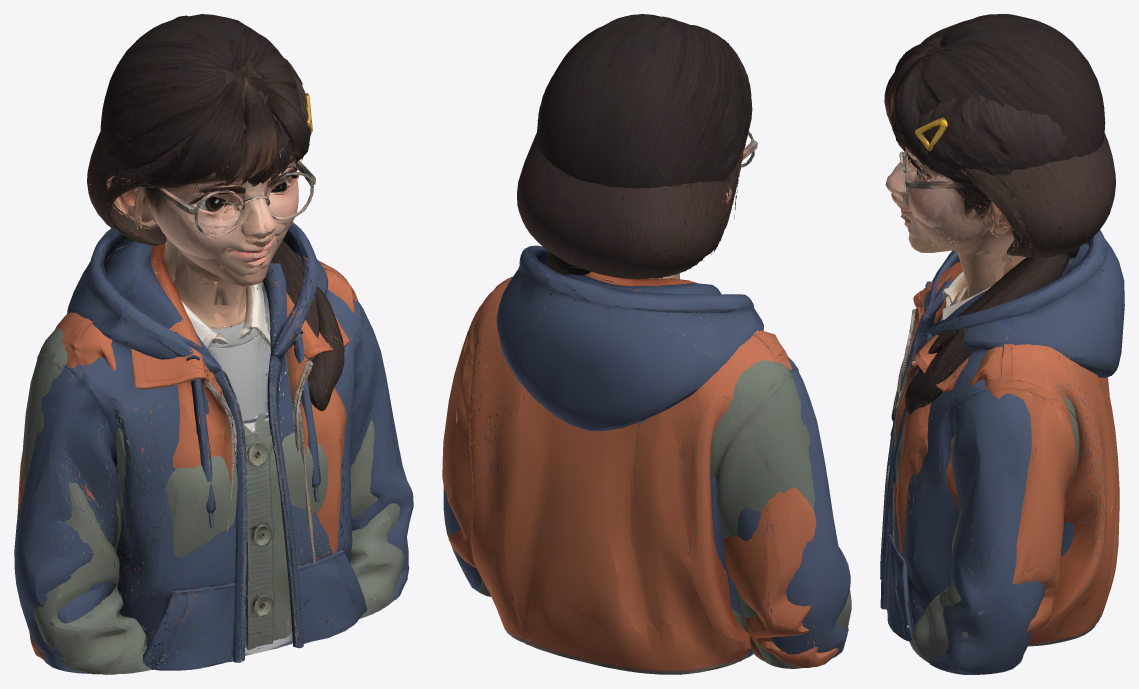
The model's file is characters.glb.
3 views of the same model, side by side, from view 1: azimuth 30°, elevation 25°; view 2: azimuth 150°, elevation 25°; view 3: azimuth 270°, elevation 25° (orthographic). The views are drawn at different scales.
Visible parts, largest first — view 1: seat1, seat2, seat3; view 2: seat3, seat2, seat1; view 3: seat1, seat3, seat2.
Part boxes in pixels (x1=…): seat1: x1=14, y1=47, x2=413, y2=673; seat2: x1=22, y1=14, x2=404, y2=674; seat3: x1=16, y1=30, x2=361, y2=660; seat3: x1=442, y1=19, x2=838, y2=674; seat2: x1=463, y1=14, x2=851, y2=668; seat1: x1=443, y1=18, x2=850, y2=661; seat1: x1=880, y1=38, x2=1124, y2=674; seat3: x1=885, y1=24, x2=1119, y2=646; seat2: x1=884, y1=14, x2=1106, y2=668.
Size of the model in its own units: 0.6975 by 1.02 by 0.3994.
Materials: 3 (3 with a texture image).
